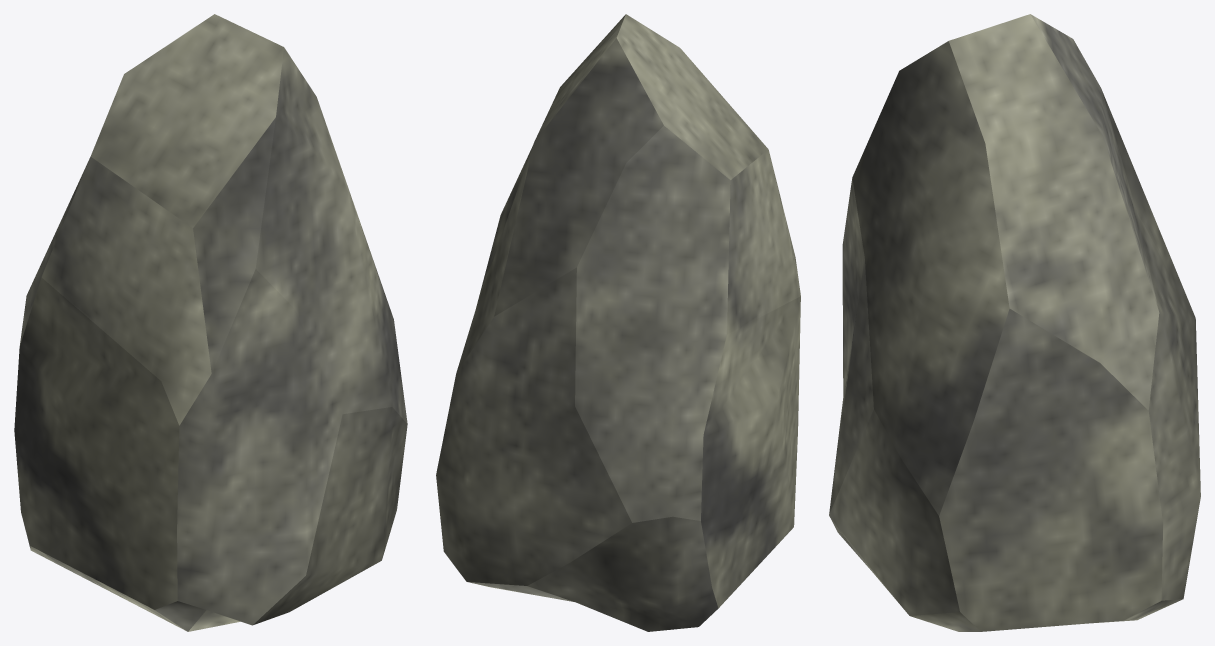
Rendered from Pedra1.fbx.
3 renders of one model, left to right at view 1: azimuth 30°, elevation 25°; view 2: azimuth 150°, elevation 25°; view 3: azimuth 270°, elevation 25°, orthographic. The views are drawn at different scales.
Visible parts, largest first — view 1: pPlatonic2; view 2: pPlatonic2; view 3: pPlatonic2.
Boxes of the visible parts, bbox=[...] form: pPlatonic2: bbox=[14, 14, 407, 631]; pPlatonic2: bbox=[436, 14, 800, 631]; pPlatonic2: bbox=[829, 14, 1200, 631].
Size of the model in its own units: 3.44 by 5.94 by 3.53.
Materials: 1 (1 with a texture image).
